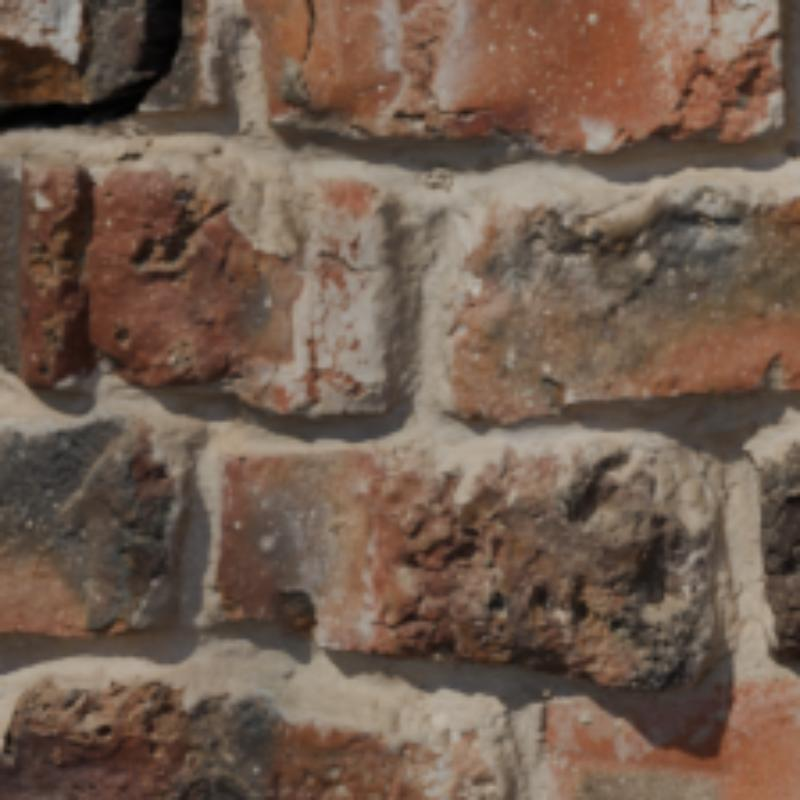pothole: (0, 0, 179, 132), (300, 0, 318, 57)
